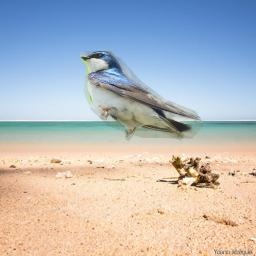Swallow: (80, 51, 203, 142)
